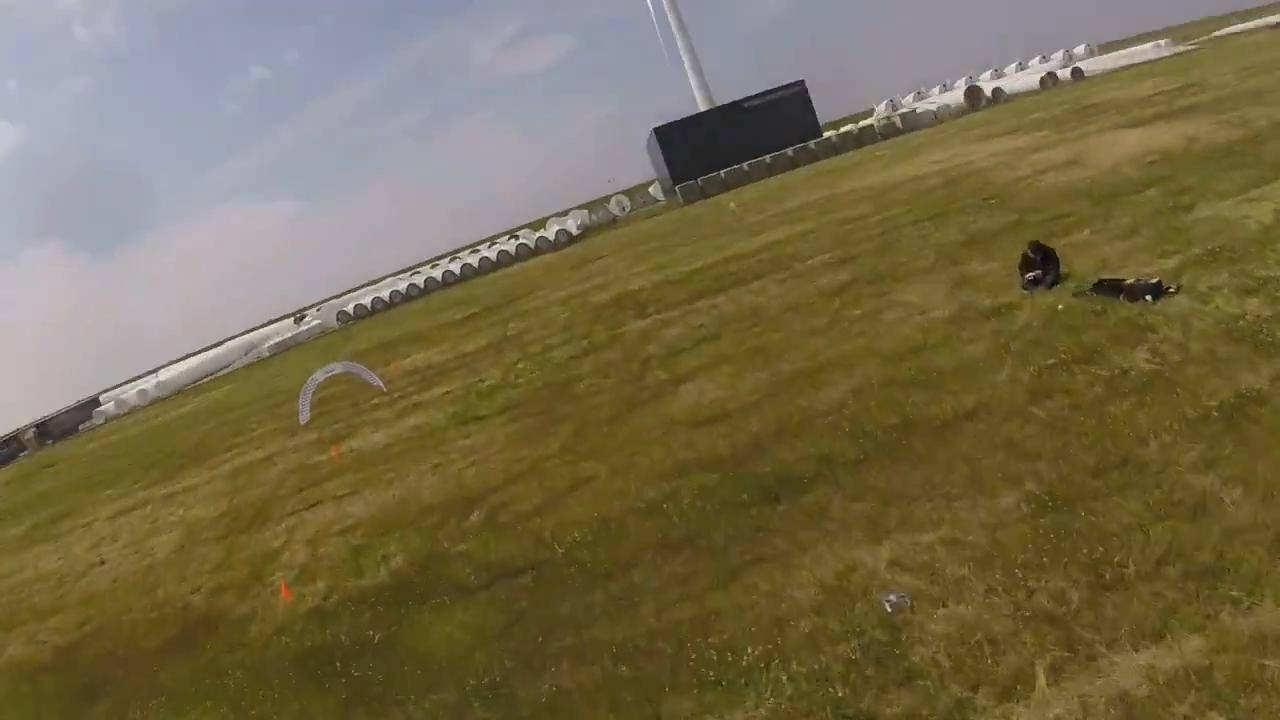gate: (297, 360, 385, 425)
